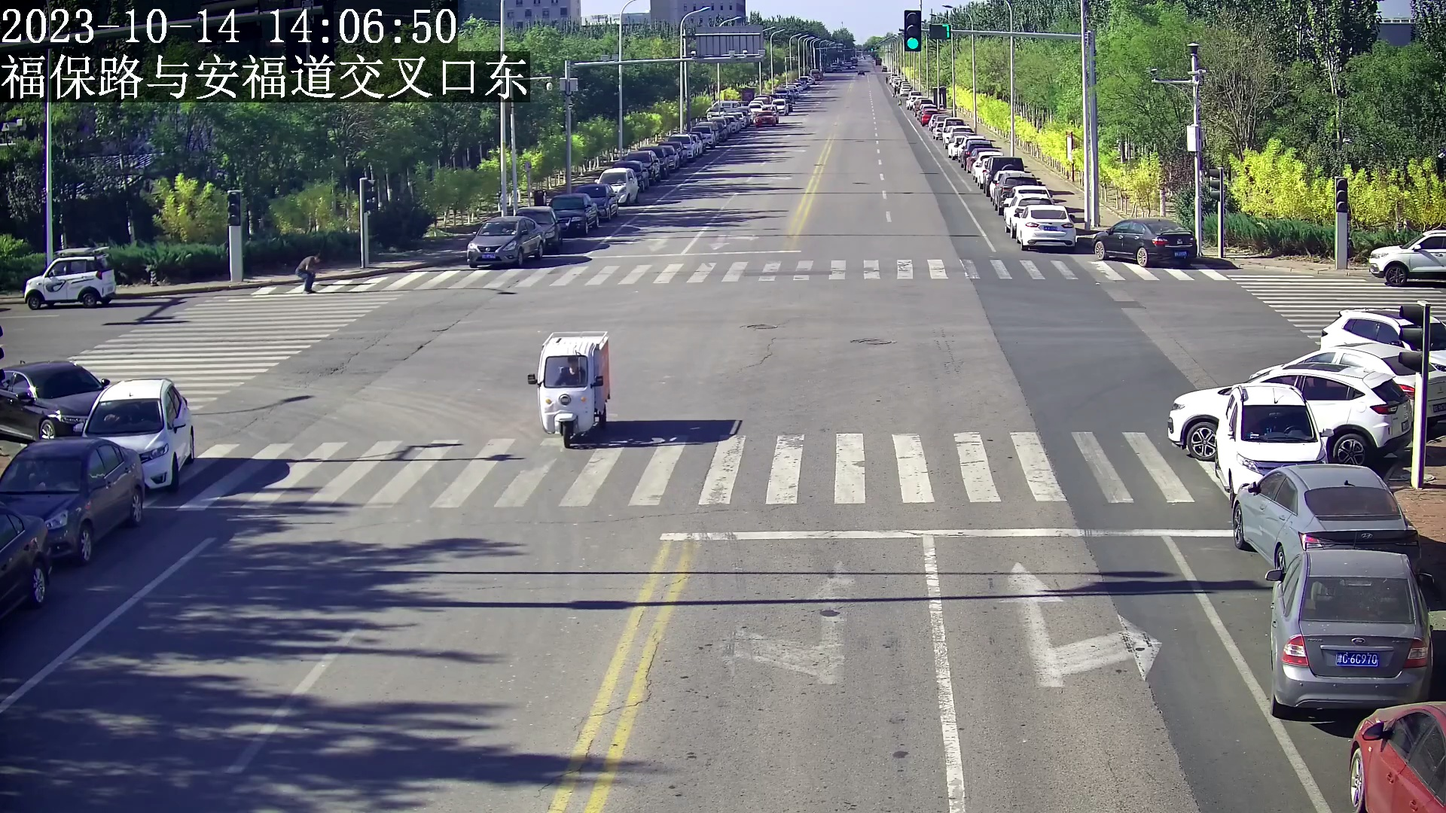person: (294, 251, 322, 294)
vehicle: (1265, 546, 1433, 714), (1166, 358, 1414, 463), (1232, 459, 1422, 572), (1, 439, 144, 561), (82, 376, 192, 489), (1215, 382, 1332, 488), (1344, 698, 1444, 812), (530, 329, 609, 448), (1, 361, 110, 443), (1092, 216, 1197, 267), (465, 215, 544, 268), (1016, 204, 1078, 249)
